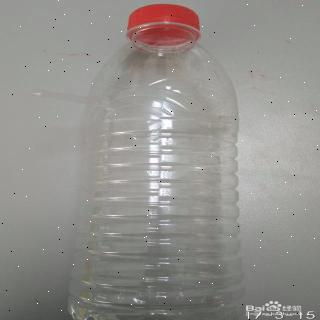Plastic-bottle: (70, 3, 252, 320)
